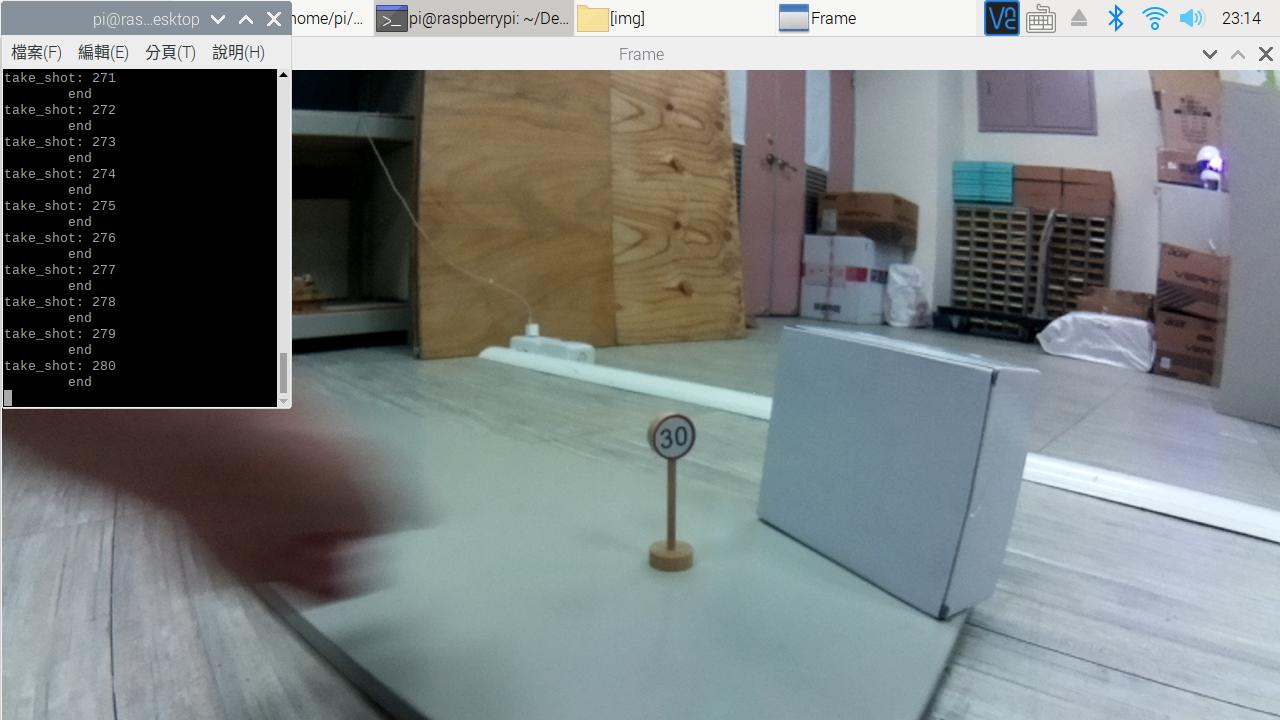Speed30: (641, 405, 704, 485)
